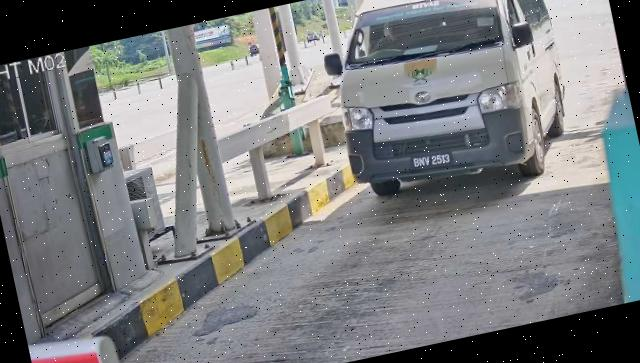License_Plate: (409, 145, 457, 176)
van: (314, 1, 582, 215)
